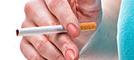smoke: (16, 22, 96, 36)
